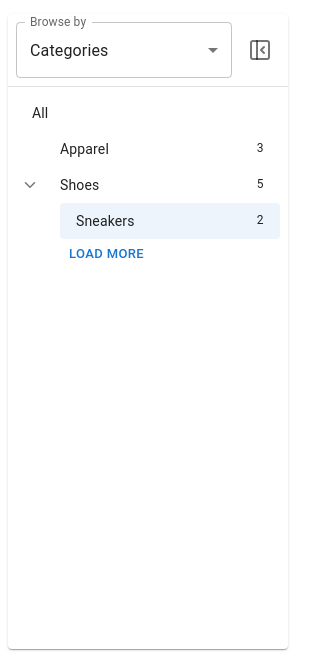
Test: ExplorerBrowseRail › asks each level for the selected branch past its first page
This screenshot has width=320, height=668.
Check: the text "Sneakers" is shown, box top-left (76, 213), bottom-right (135, 229)
Note: The page that holds it later does not list it twice.
What coordinates should you click on to do the following:
click the button "Load more"
I would click on:
 (106, 254)
Its box is top-left (64, 239), bottom-right (149, 270).
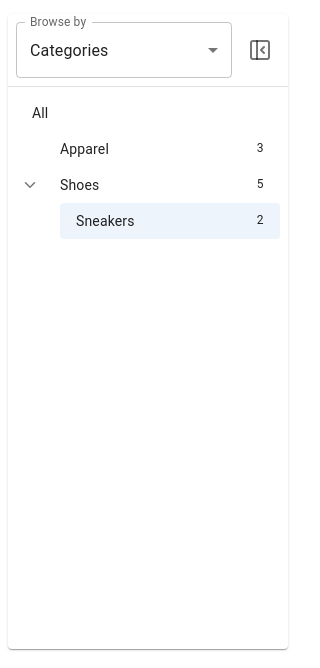
Check: the text "Sneakers" is shown once, box top-left (76, 213), bottom-right (135, 229)
Check: the button "Load more" is gone
